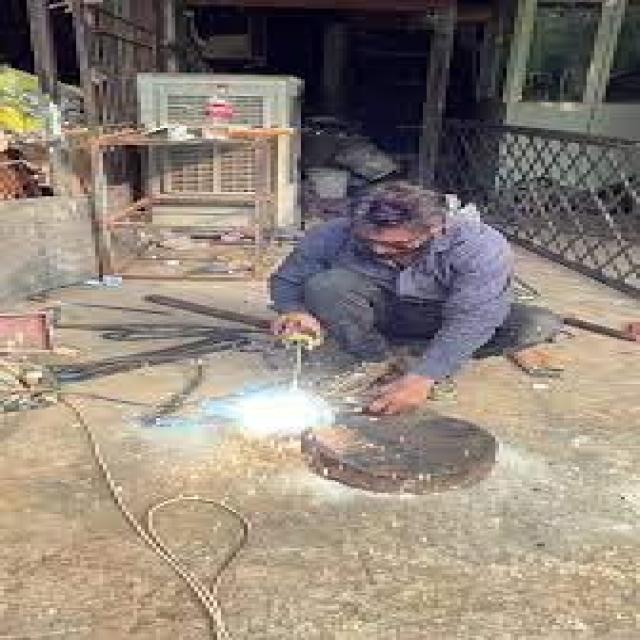fire: (222, 385, 337, 442)
